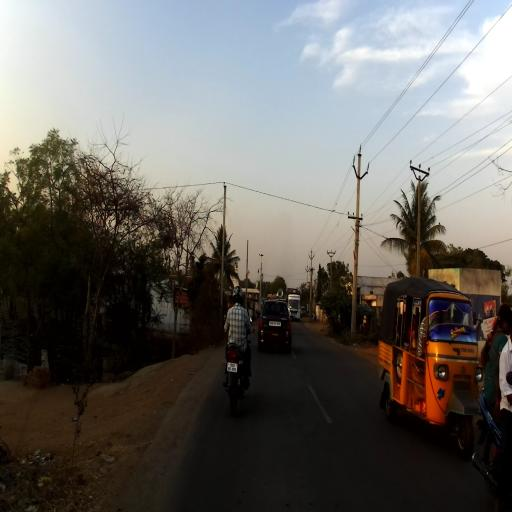street_light_0: (351, 226, 360, 253), (308, 272, 313, 286)
